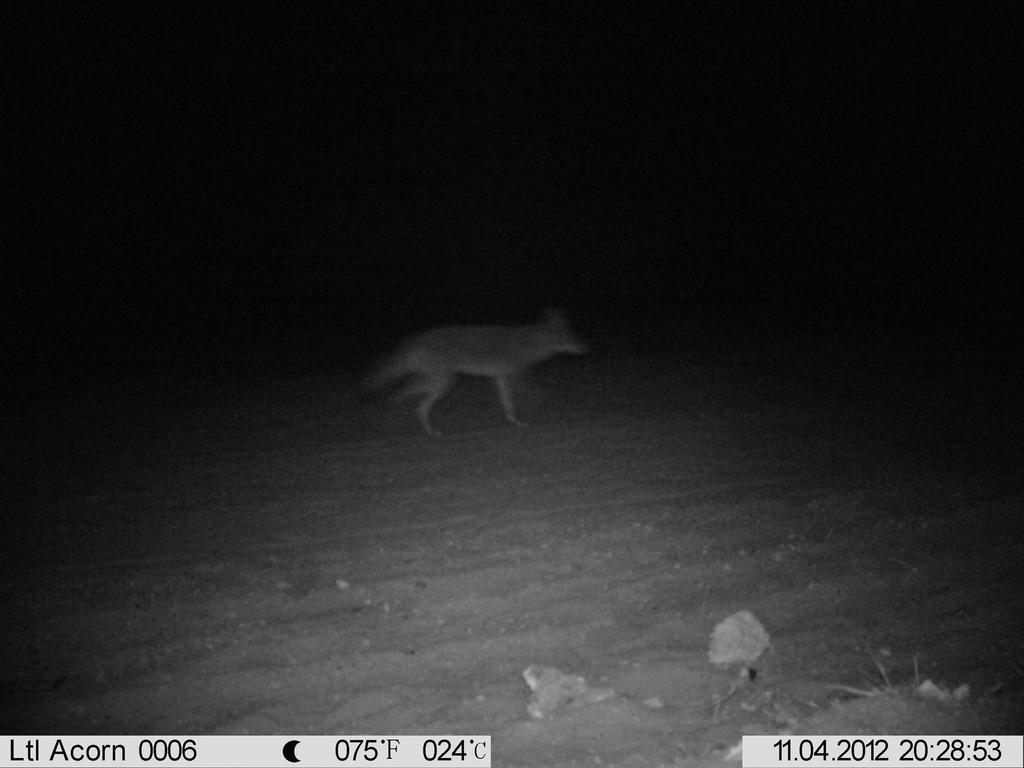coyote: (359, 304, 596, 442)
